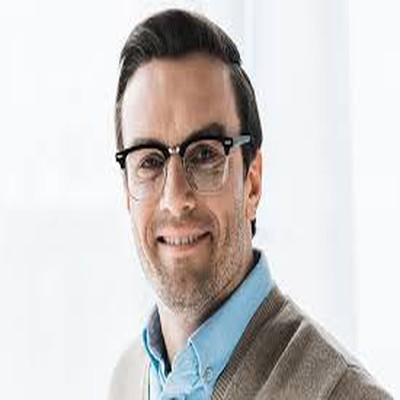eywear: (110, 123, 260, 210)
